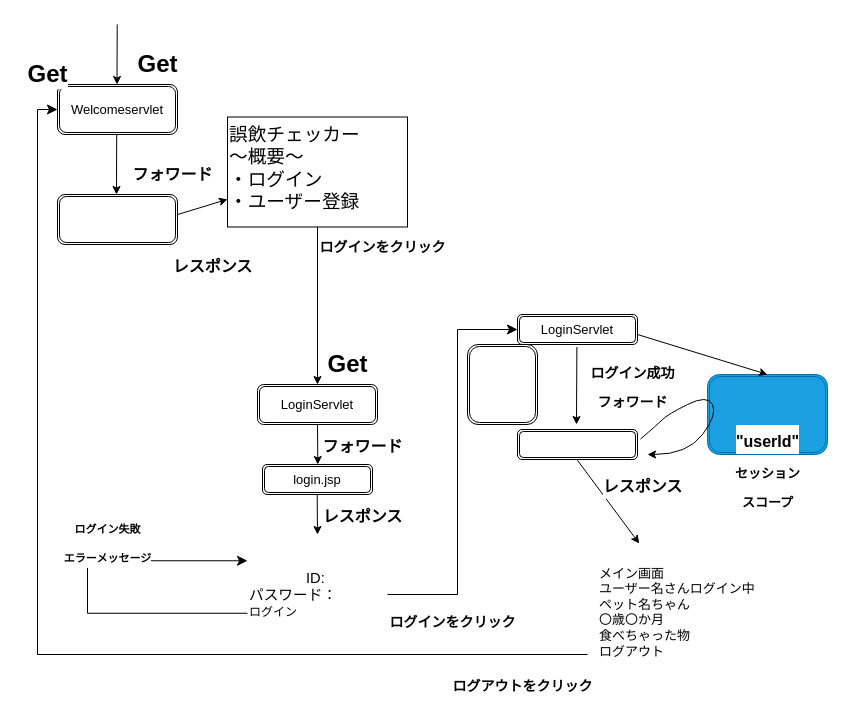
Some shapes in this 845 by 715 pixel diagram are drawn without their labels. Here are the shapes that lost their labels. From the top down, the box of each, then its label:
(56, 194, 178, 244): Welcome.jsp
(466, 344, 538, 424): userId pass リクエスト パラメータ
(706, 374, 828, 454): ユーザーID
(516, 428, 638, 460): loginOK.jsp
